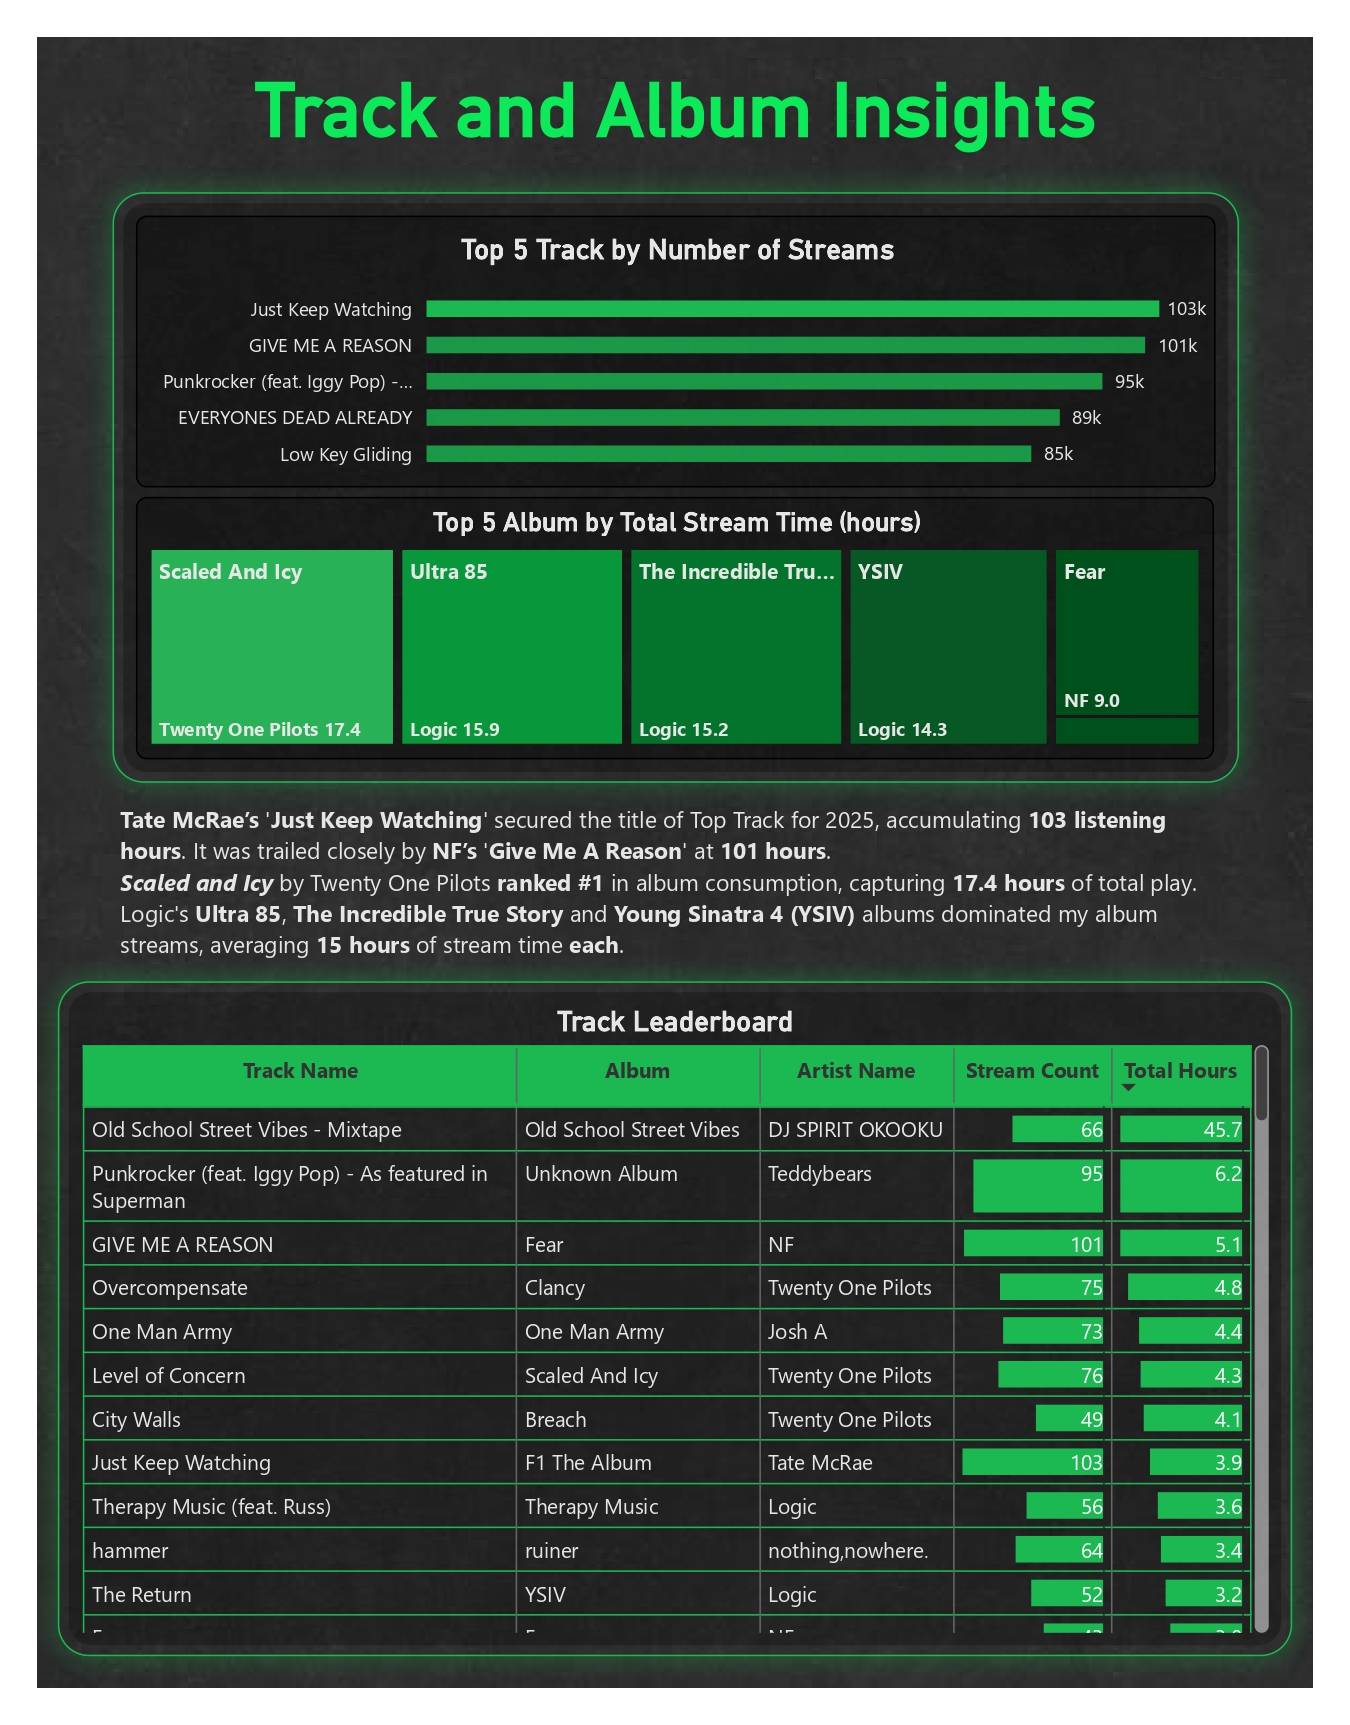

This screenshot's page, from the dashboard's own definition file:
{"tool":"powerbi","page":{"name":"Track and Album Insights","canvas":[816,1056],"ordinal":4},"visuals":[{"type":"textbox","box":[0,13.2,816.8,71],"z":0},{"type":"textbox","box":[47.9,485.4,719.8,110.4],"z":1000},{"type":"shape","box":[13.4,604.1,789.7,432],"z":1000,"group":"g1"},{"type":"shape","box":[47.9,99,720.8,378.1],"z":2000},{"type":"group","id":"g1","title":"Group 1","box":[13.4,604.1,789.7,432],"z":3000},{"type":"tableEx","title":"Track Leaderboard","fields":{"Values":["Streaming dataset.Track_Name","Streaming dataset.Track_Album","Streaming dataset.Artist_Name","CountNonNull(Streaming dataset.Track_Name)","Sum(Streaming dataset.Hours)"]},"box":[13.4,604.1,789.7,432],"z":3000,"group":"g1"},{"type":"barChart","title":"Top 5 Track by Number of Streams ","fields":{"Category":["Streaming dataset.Track_Name"],"Y":["CountNonNull(Streaming dataset.Track_Name)"]},"box":[62.8,113.8,691.5,174.5],"z":4000},{"type":"treemap","title":"Top 5 Album by Total Stream Time (hours)","fields":{"Details":["Streaming dataset.Artist_Name"],"Group":["Streaming dataset.Track_Album"],"Values":["Sum(Streaming dataset.Hours)"]},"box":[62.8,293.6,690.4,168.1],"z":5000}]}

Visuals, with their boxes on the page's 816x1056 design canvas (x1, y1, x2, y2). These are canvas units, not pixel positions in the 1350x1725 screenshot, which may show the page scaled, cropped or inside an application window:
textbox: bbox=(0, 13, 817, 84)
textbox: bbox=(48, 485, 768, 596)
shape: bbox=(13, 604, 803, 1036)
shape: bbox=(48, 99, 769, 477)
"Group 1" group: bbox=(13, 604, 803, 1036)
"Track Leaderboard" tableEx: bbox=(13, 604, 803, 1036)
"Top 5 Track by Number of Streams " barChart: bbox=(63, 114, 754, 288)
"Top 5 Album by Total Stream Time (hours)" treemap: bbox=(63, 294, 753, 462)
